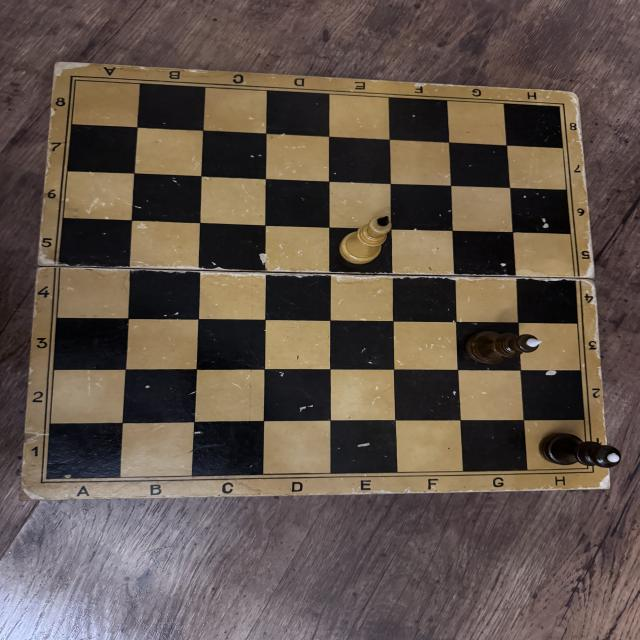black-king: (464, 326, 544, 368)
black-queen: (537, 428, 622, 471)
white-king: (337, 212, 392, 266)
